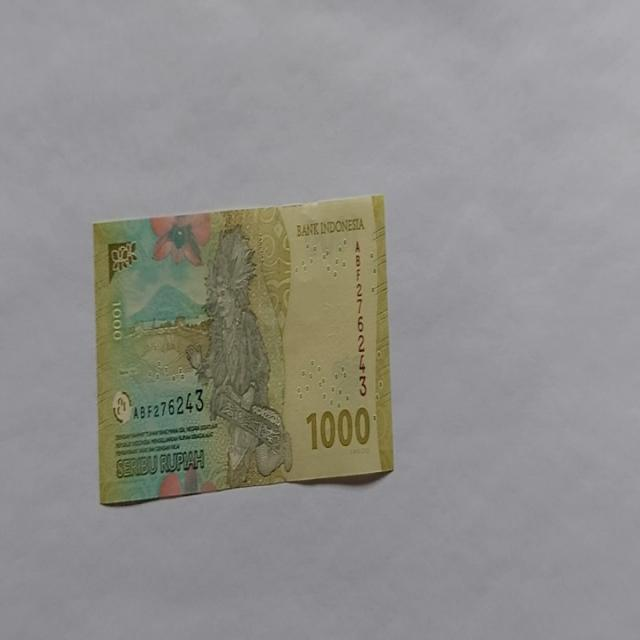seribu rupiah kertas: (92, 192, 394, 506)
